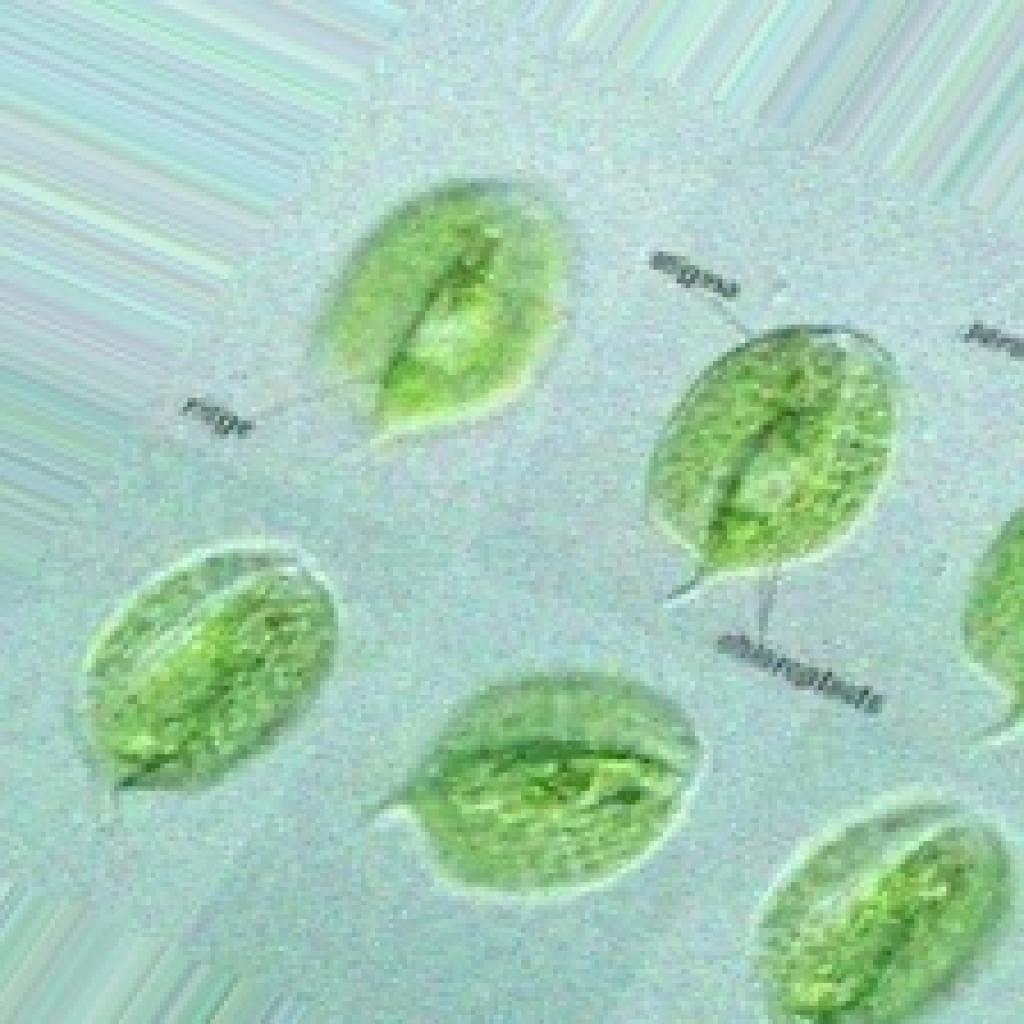Microalgae: (243, 146, 584, 476), (59, 527, 379, 836), (392, 652, 733, 939), (636, 283, 920, 602), (744, 768, 1024, 1023)
